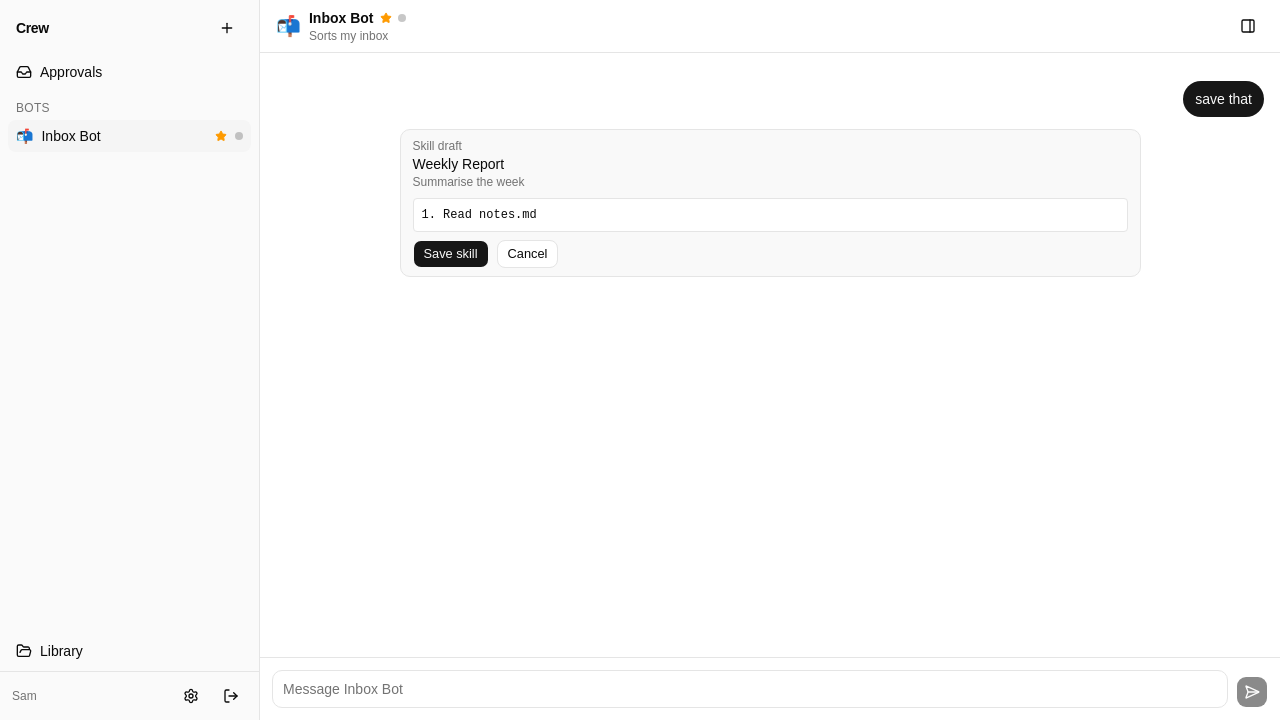
Test: a skill draft card saves the skill only when the user clicks Save
Check: the text "1. Read notes.md" is shown, box [412,198,1128,232]
Click the button "Save skill" at (451, 254), box [412,240,489,268]
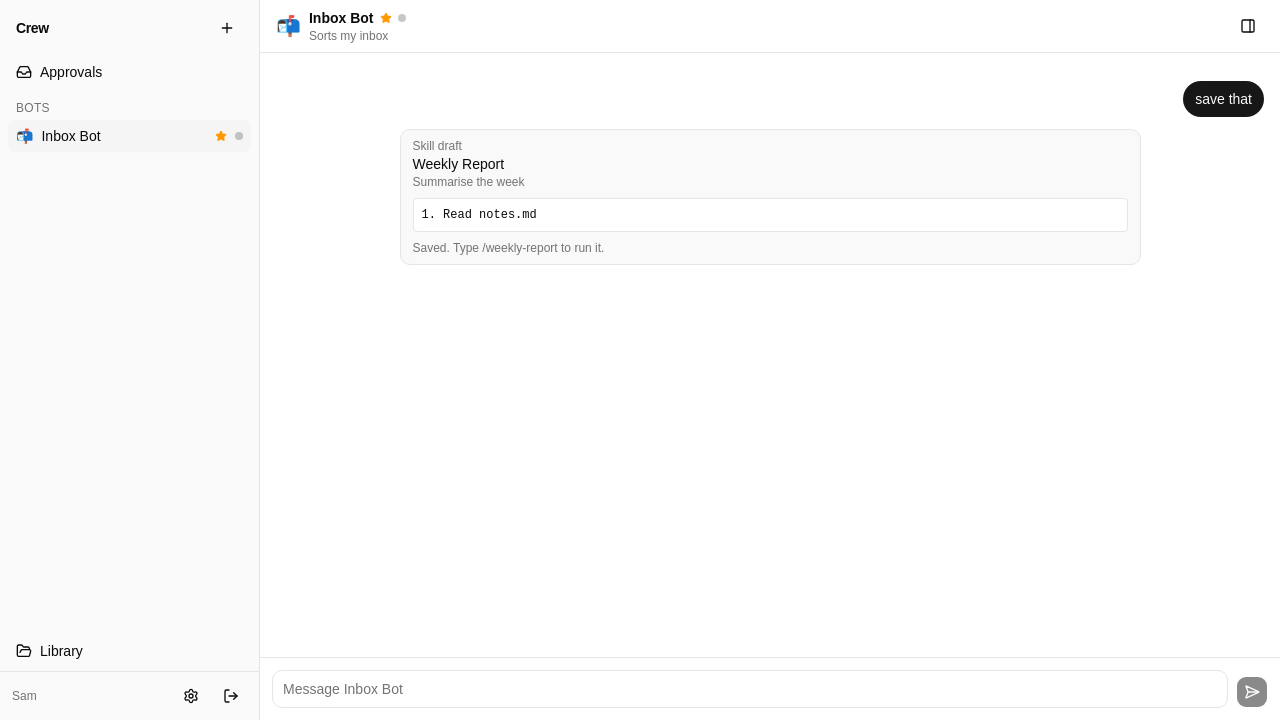
Check: the message shows "/weekly-report", box [412,241,604,255]
Check: the button "Save skill" is gone
